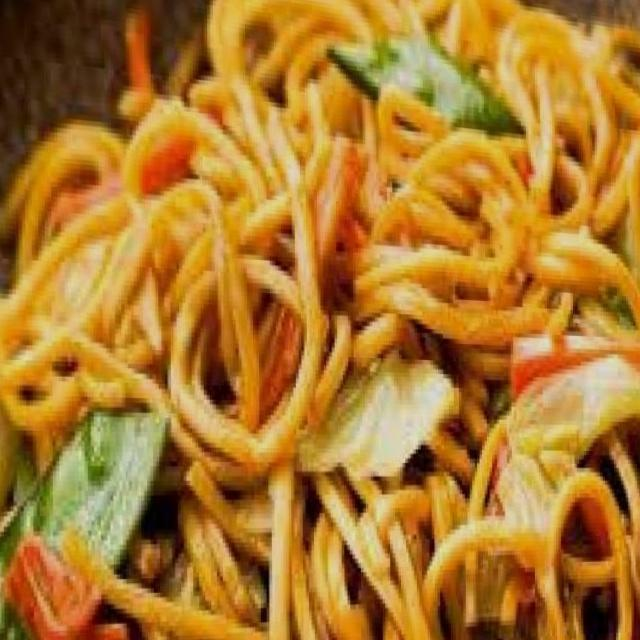pancit bihon: (0, 0, 639, 639)
